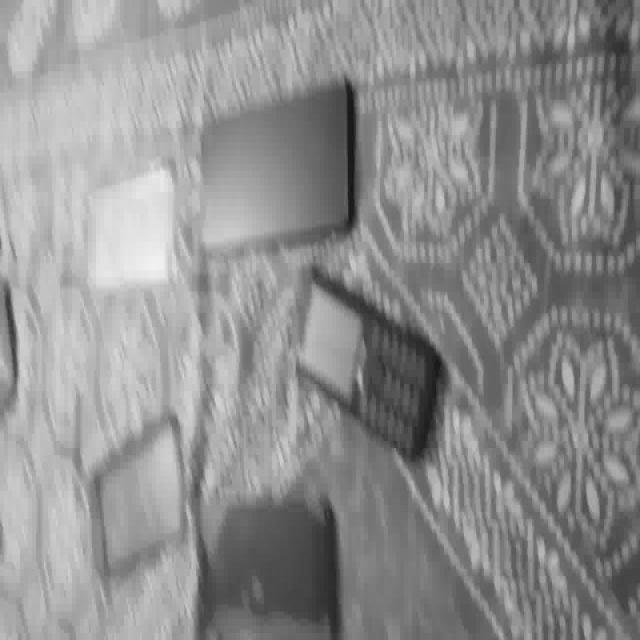fake: (291, 273, 444, 461), (194, 77, 355, 253), (198, 493, 334, 634)
